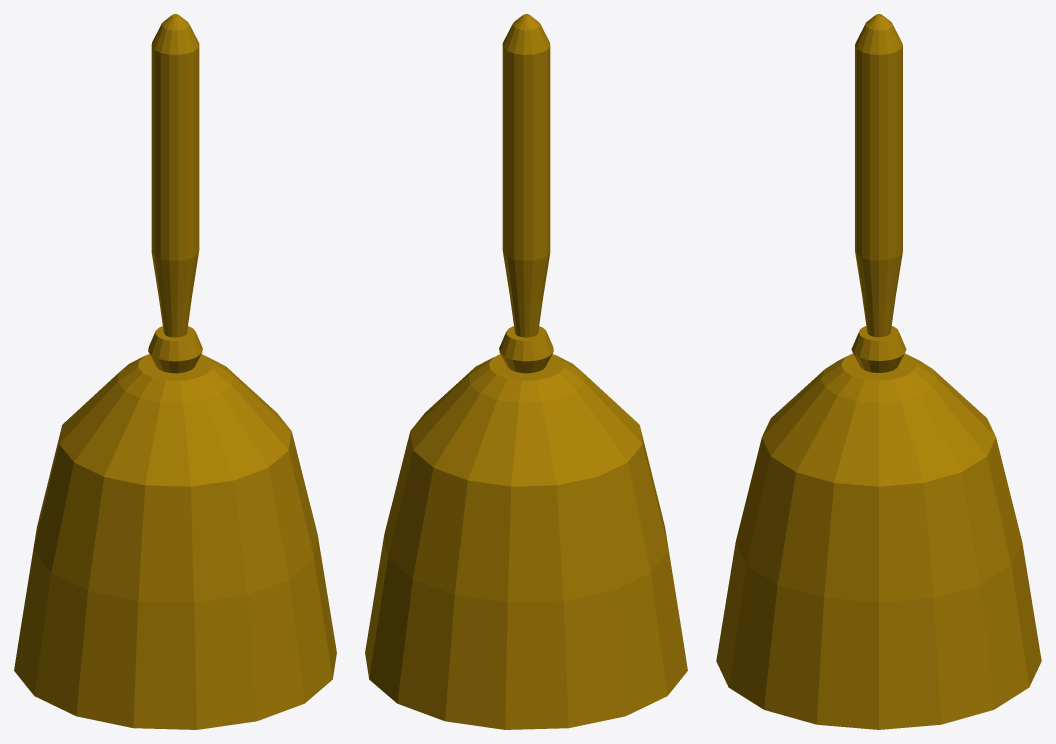
Rendered from BrokeSoothingBell.fbx.
3 renders of one model, left to right at view 1: azimuth 30°, elevation 25°; view 2: azimuth 150°, elevation 25°; view 3: azimuth 270°, elevation 25°, orthographic.
Parts seen in each view (by area): view 1: Bell.001; view 2: Bell.001; view 3: Bell.001.
Boxes of the visible parts, <box> form: Bell.001: <box>14,14,336,729</box>; Bell.001: <box>365,14,687,729</box>; Bell.001: <box>716,14,1041,729</box>.
Bounding box in the file's own units: 559 × 1224 × 559.
